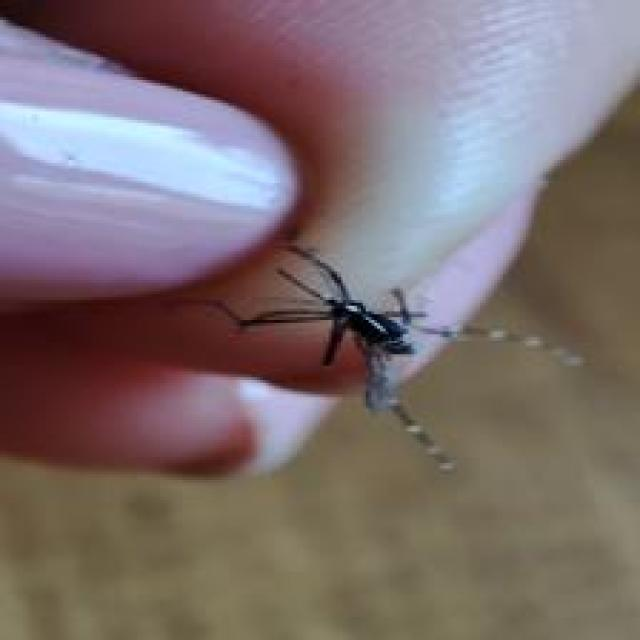Aedes albopictus: (213, 241, 587, 473)
